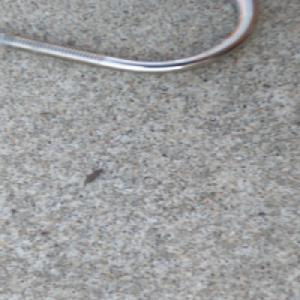ClampPart: (0, 0, 263, 76)
